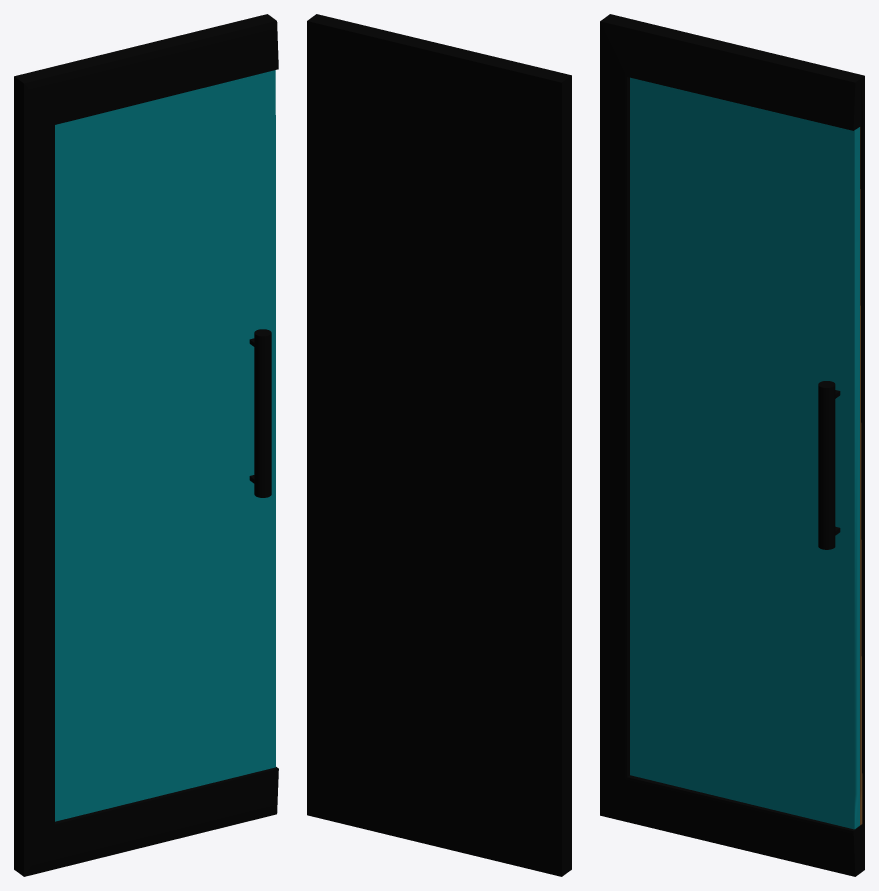
Rendered from Left_InfinityMirror_Door.fbx.
The picture shows the model from 3 angles, left to right: view 1: azimuth 30°, elevation 25°; view 2: azimuth 150°, elevation 25°; view 3: azimuth 330°, elevation 25°; orthographic projection.
Parts seen in each view (by area): view 1: polySurface770; view 2: polySurface770; view 3: polySurface770.
Part boxes in pixels (x1,y1,x2,y2): polySurface770: (14, 14, 278, 876); polySurface770: (307, 14, 571, 876); polySurface770: (600, 14, 864, 876).
Bounding box in the file's own units: 3.56 × 10.62 × 0.5109.
